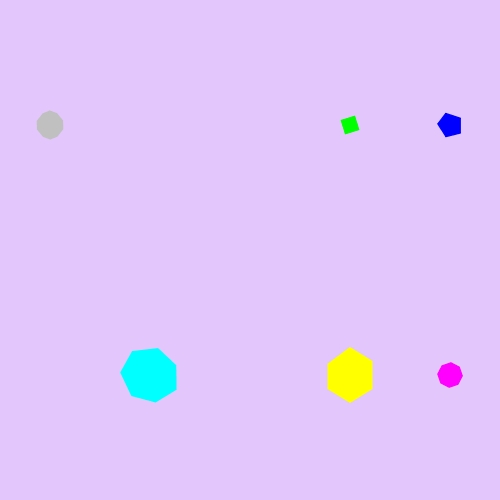decagon: (32, 108, 69, 142)
heptagon: (118, 345, 182, 406)
hexagon: (319, 349, 381, 401)
octagon: (433, 358, 467, 392)
pentagon: (434, 109, 467, 142)
quadrilateral: (335, 110, 365, 140)
